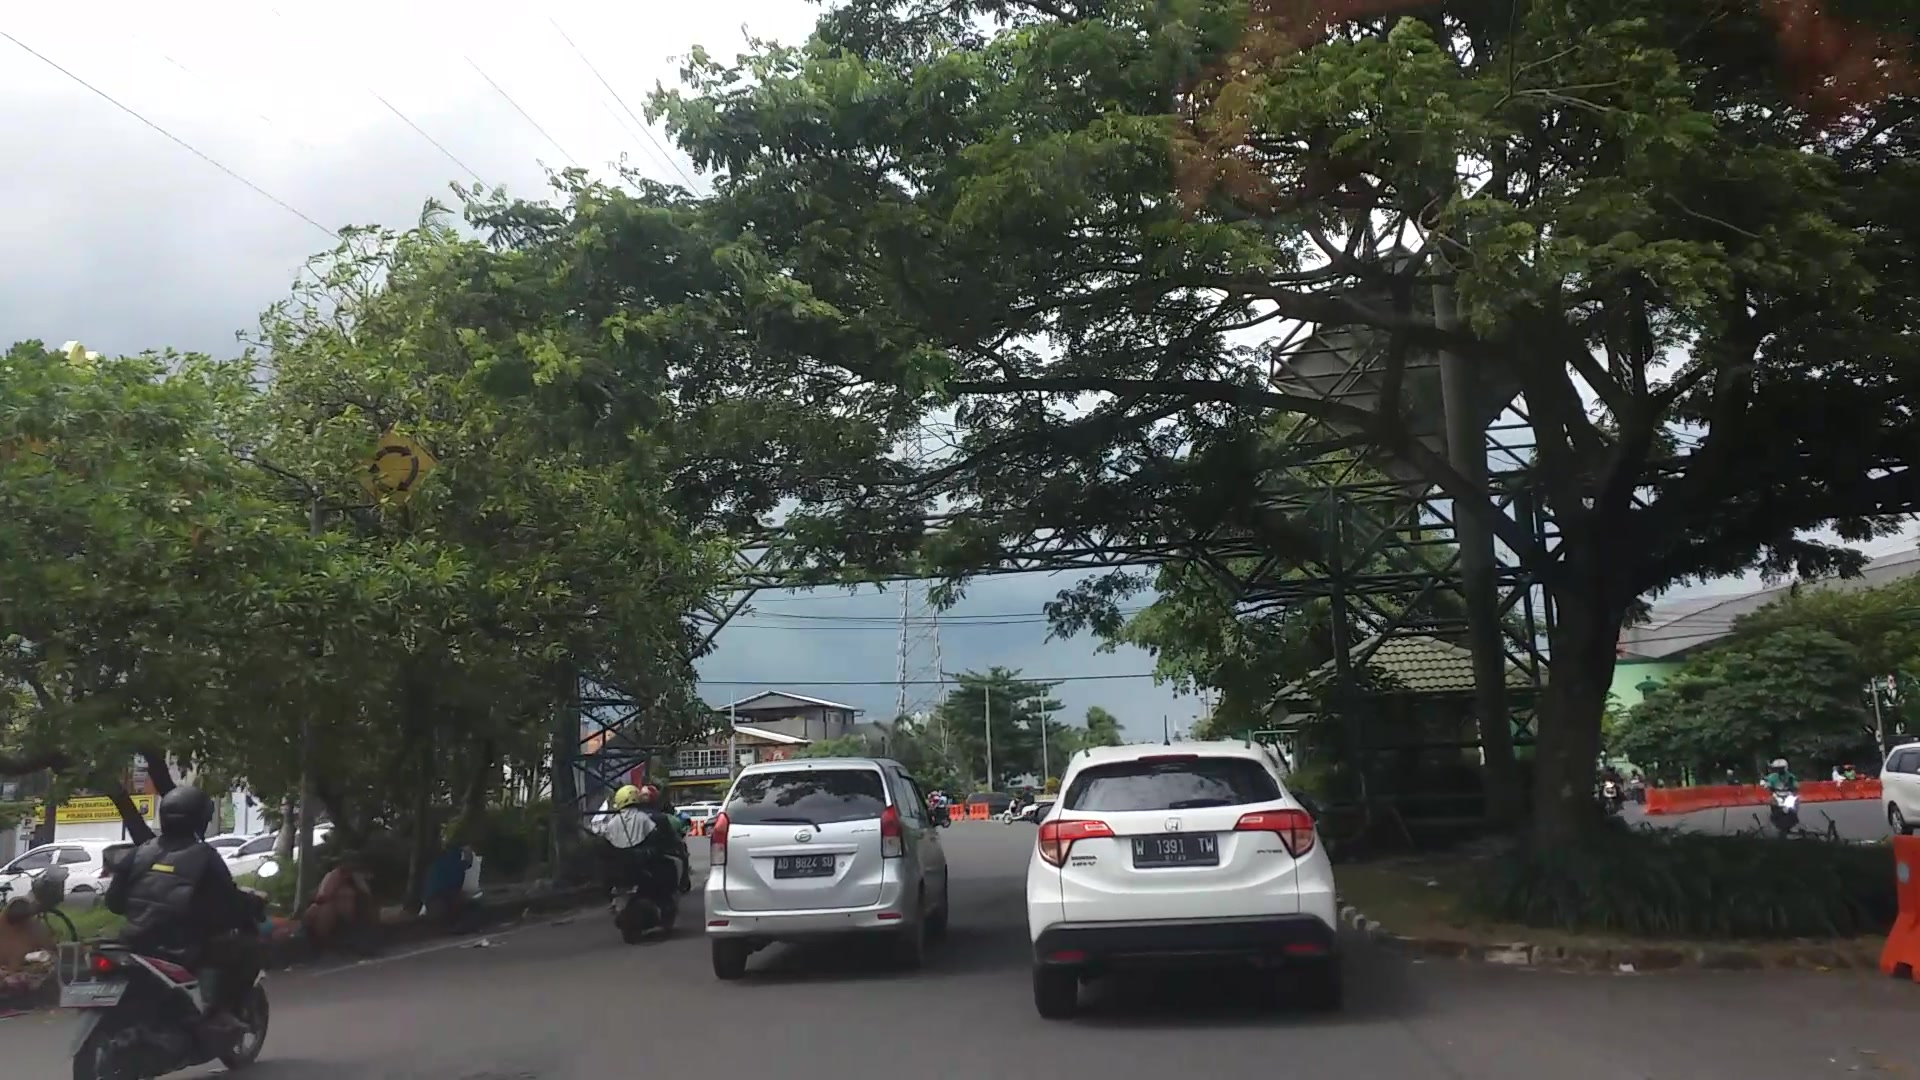plate_positive: (1131, 833, 1218, 866), (774, 855, 835, 878)
